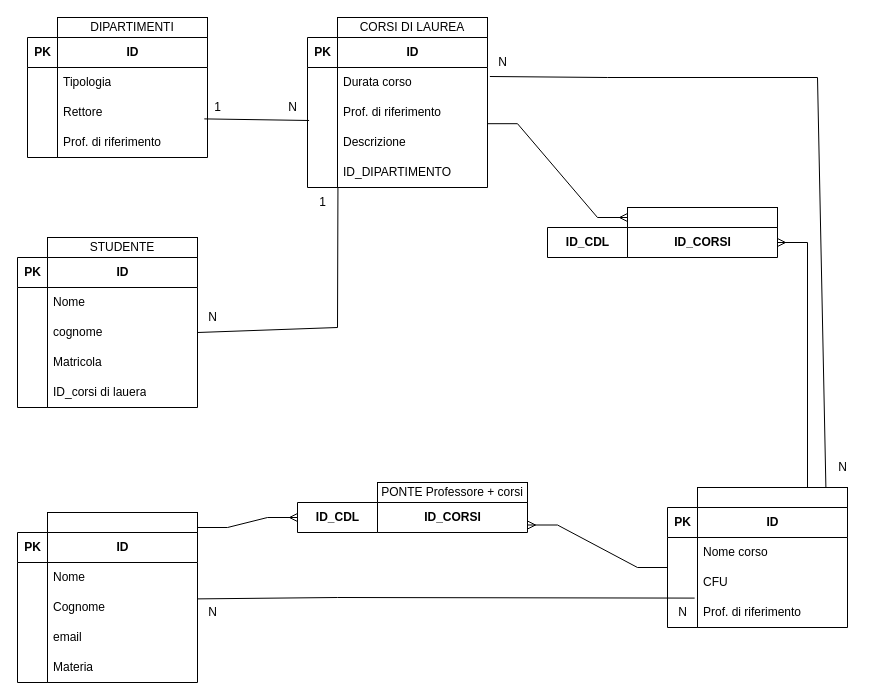
Image size: 875x700. Some labels were removed from this diagram. Here are the shapes that lost their labels. From the top down, the centre of each, then its label:
point (702, 217): PONTE CDL + corsi
point (772, 497): CORSI
point (122, 522): PROFESSORE
